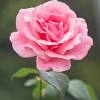rose: (20, 11, 87, 60)
